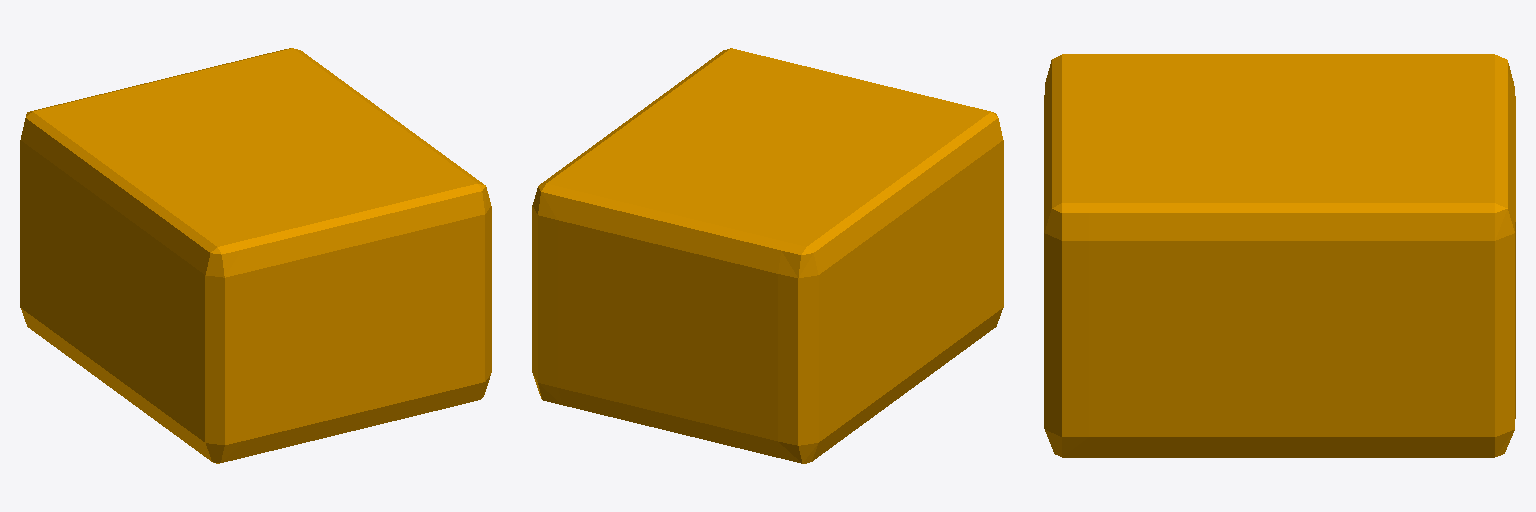
The robot description file, URDF, robot "cylinder_box_72":
<?xml version="1.0" encoding="utf-8"?>  <robot name="cylinder_box_72">   <link name="cylinder_box_72">     <visual>       <geometry>         <mesh filename="../meshes/box/box_72.stl" scale="1 1 1"/>       </geometry>     </visual>     <collision>       <geometry>         <mesh filename="../meshes/box/box_72.stl" scale="1 1 1"/>       </geometry>     </collision>     <inertial>        <origin         xyz="0 0 0"         rpy="0 0 0" />       <mass value="0.3168331747100221"/>       <origin rpy="0 0 0" xyz="0 0 0"/>       <inertia ixx="0.00026568847525066275" ixy="-3.484862828483272e-08" ixz="-1.7622941584985047e-09" iyy="0.00020189932937988273" iyz="-4.038351045244164e-10" izz="0.0003288390899398892"/>     </inertial>   </link>  </robot>

--- Facts derived from the render (not from the file) ---
The picture shows the robot from 3 angles, left to right: view 1: azimuth 30°, elevation 25°; view 2: azimuth 150°, elevation 25°; view 3: azimuth 270°, elevation 25°; orthographic projection.
Model cylinder_box_72 with 1 links and 0 joints (none), rooted at cylinder_box_72, posed every joint at zero.
Visible links, largest first — view 1: cylinder_box_72; view 2: cylinder_box_72; view 3: cylinder_box_72.
Link boxes in pixels (box(x1,y1,x2,y2)): cylinder_box_72: box(20, 48, 491, 463); cylinder_box_72: box(532, 48, 1003, 463); cylinder_box_72: box(1044, 54, 1515, 457).
Size in the robot's own frame: 0.0715 by 0.087 by 0.0517 metres.
Meshes: 1 distinct files referenced, 1 mesh visuals loaded (1 binary STL).